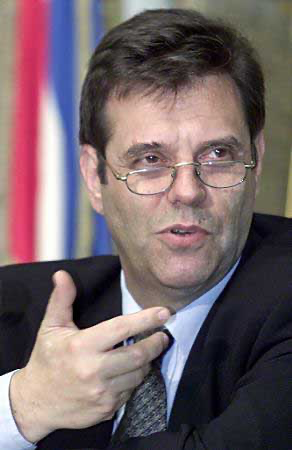Face: (119, 94, 252, 292)
